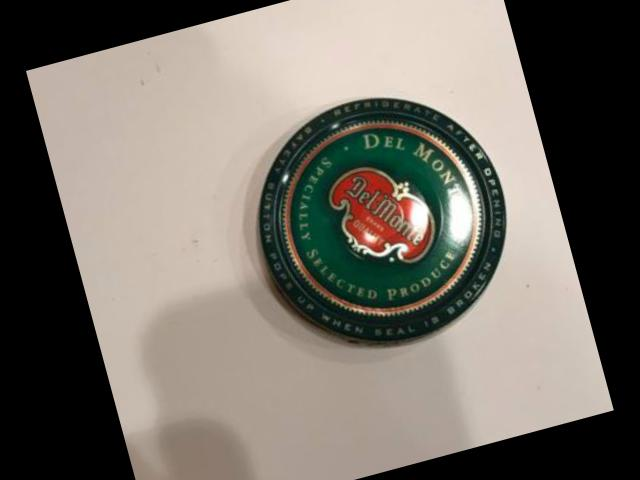metal: (262, 95, 507, 341)
